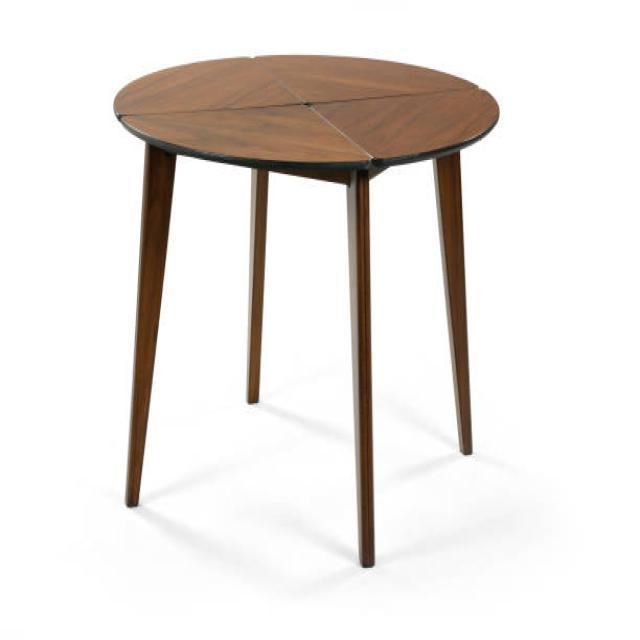table: (112, 52, 500, 568)
